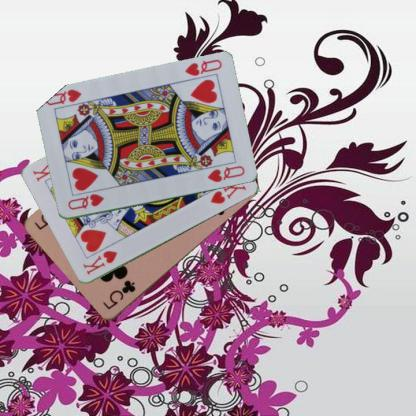5c: (100, 278, 137, 311)
Kh: (80, 248, 119, 277)
Qh: (182, 57, 223, 78), (65, 192, 105, 212)
